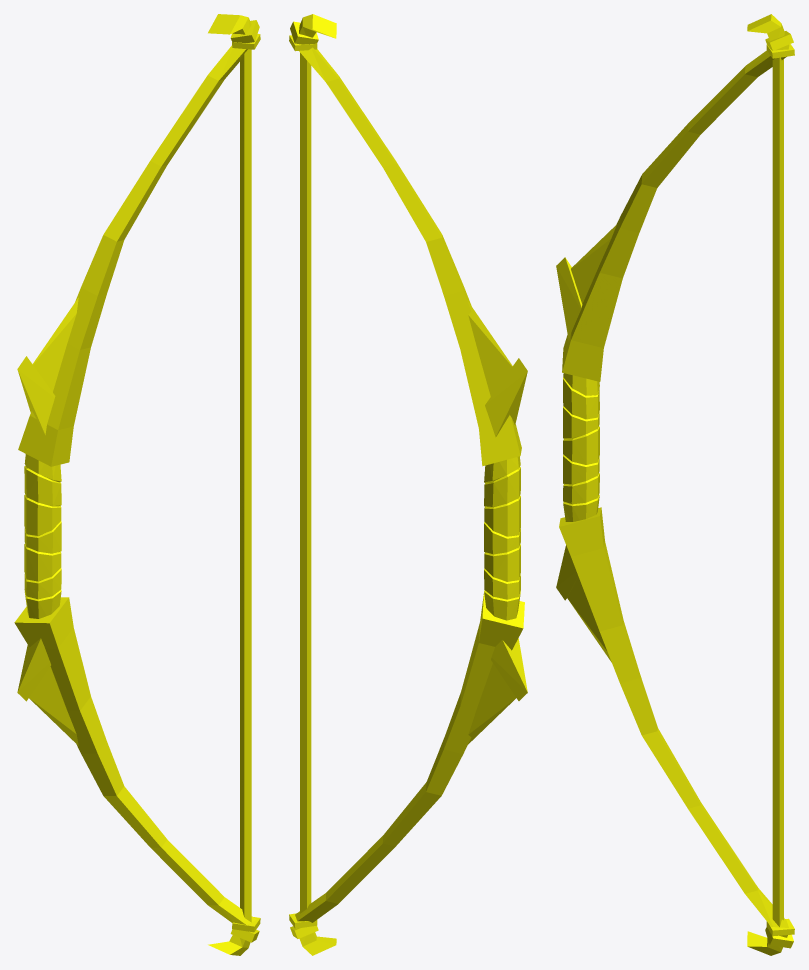
File: _bow_14.glb
3 renders of one model, left to right at view 1: azimuth 30°, elevation 25°; view 2: azimuth 150°, elevation 25°; view 3: azimuth 330°, elevation 25°, orthographic.
Parts seen in each view (by area): view 1: bow_14; view 2: bow_14; view 3: bow_14.
Boxes of the visible parts, x1=… form: bow_14: x1=14, y1=14, x2=260, y2=955; bow_14: x1=289, y1=14, x2=527, y2=955; bow_14: x1=556, y1=14, x2=794, y2=955.
Size of the model in its own units: 8125 by 30222 by 1704.
